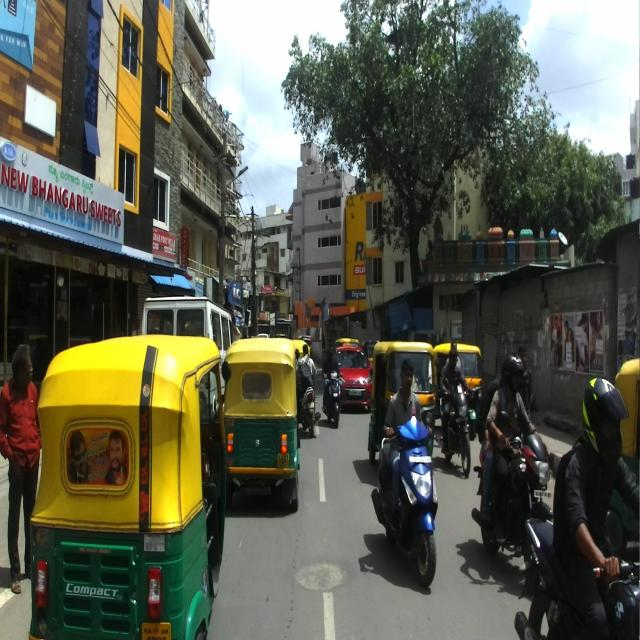autorickshaw: (28, 335, 231, 639), (222, 336, 300, 512), (367, 340, 440, 464), (433, 342, 483, 440)
mini-bus: (141, 296, 234, 412)
motorcycle_Hero: (471, 409, 553, 575)
motorcycle_Honda: (438, 376, 474, 476)
motorcycle_bajaj: (514, 516, 640, 640)
scooter: (370, 416, 438, 590)
